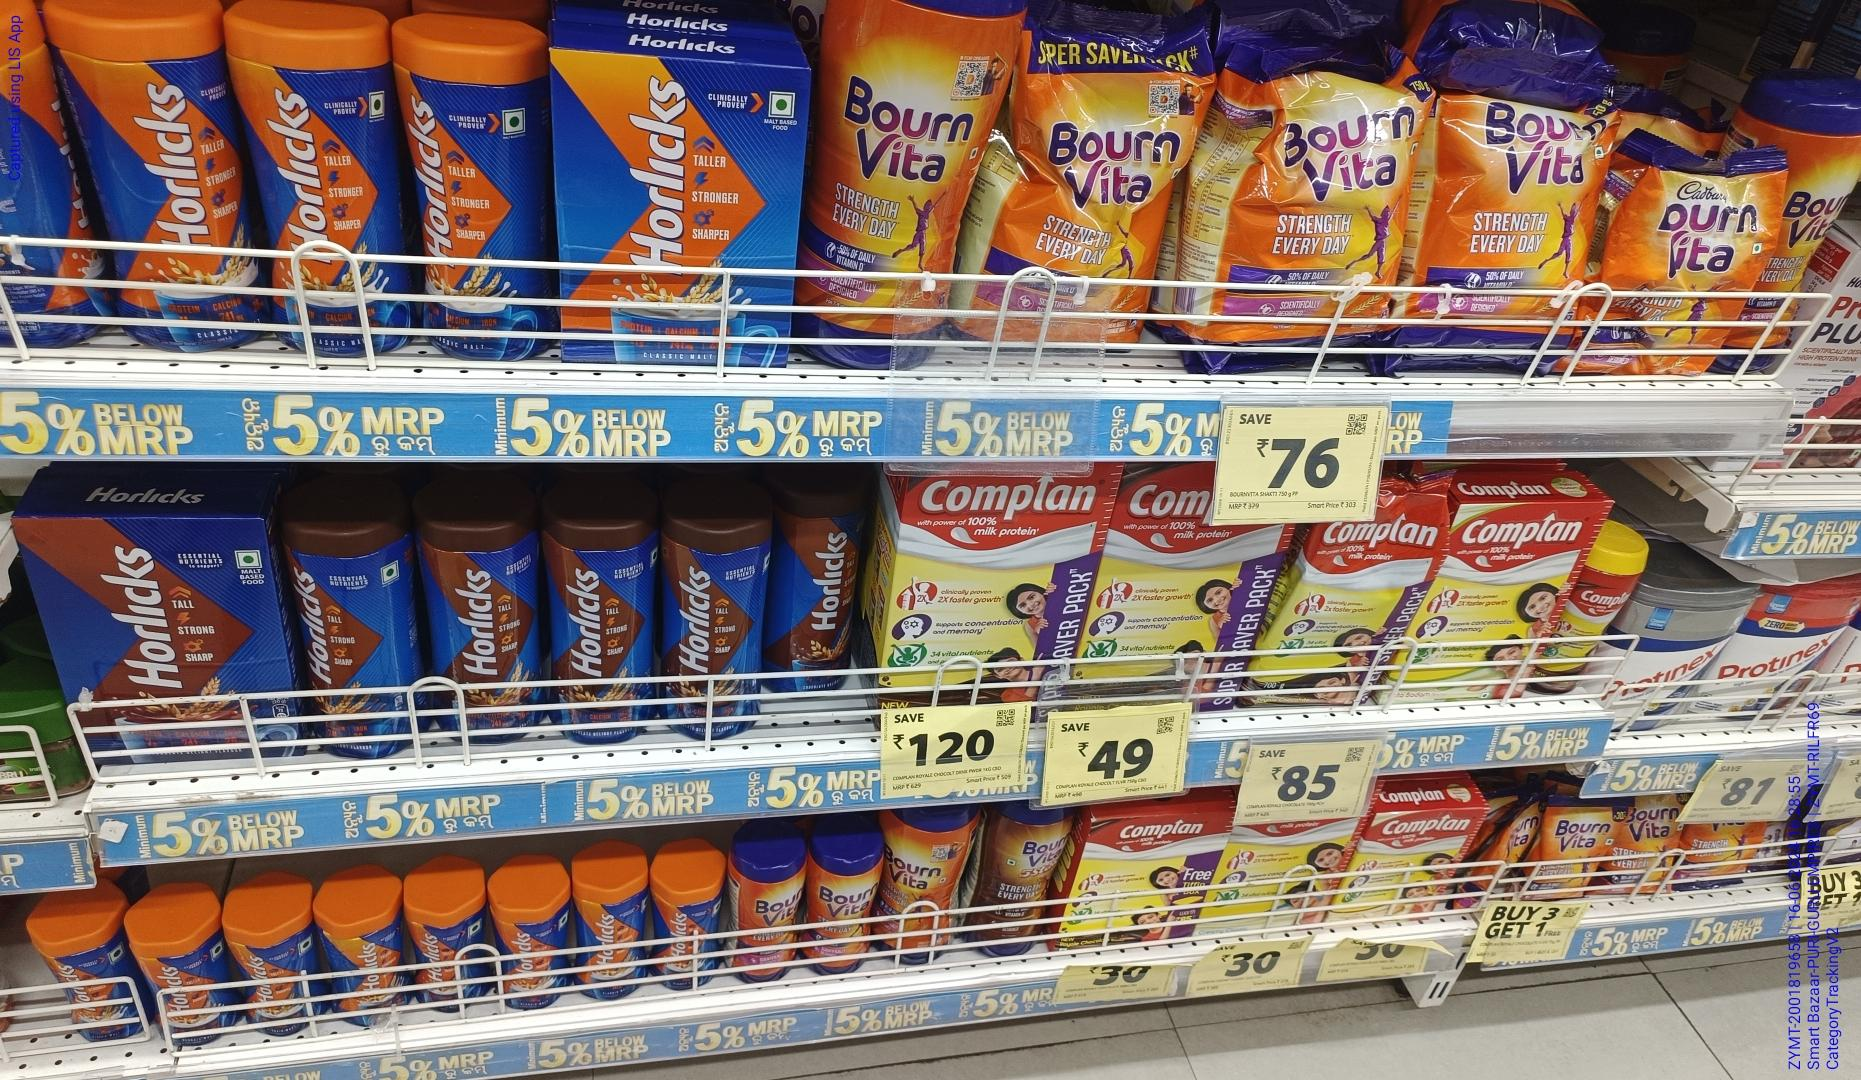BOURN_VITA_75_G_POUCH: (1532, 798, 1625, 900)
